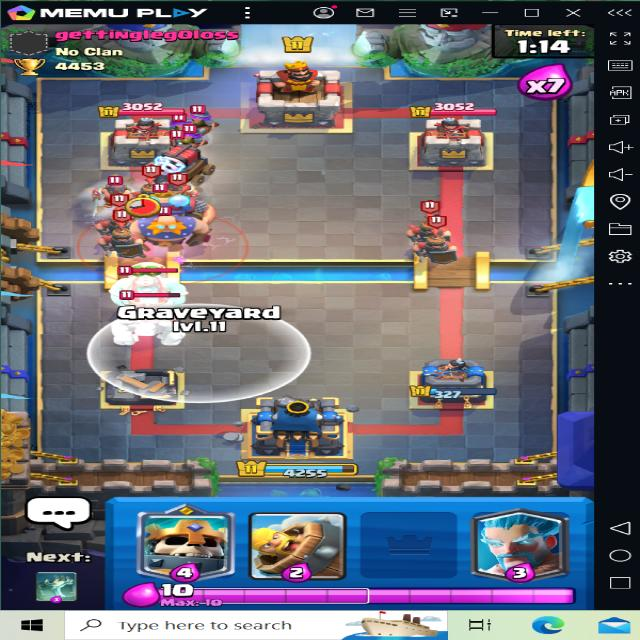electro-barbarians: (95, 173, 140, 206), (162, 171, 200, 196)
electro-giant: (116, 195, 218, 257)
goblin-giant: (103, 258, 192, 309)
golem: (112, 298, 197, 351)
musketeer: (186, 100, 222, 137), (178, 120, 213, 146)
royal-giant: (120, 184, 218, 224)
royal-recruits: (103, 212, 143, 260), (420, 217, 460, 264), (408, 204, 455, 240), (100, 204, 144, 240)
sparky: (145, 126, 215, 182)
